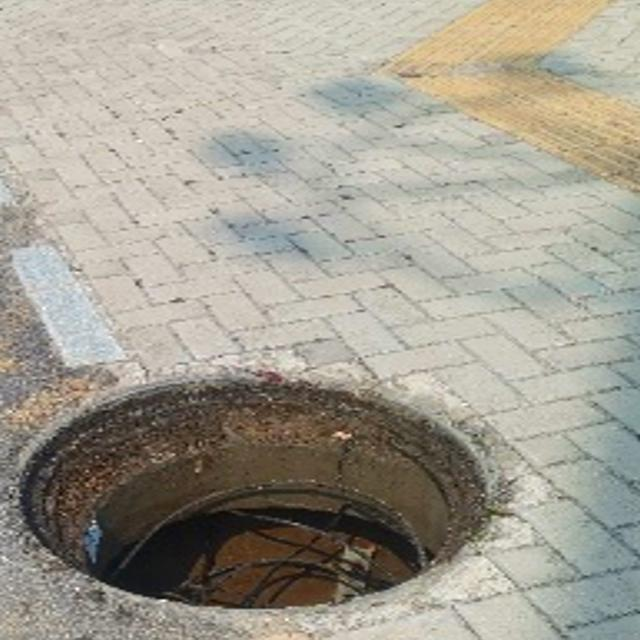lose: (3, 367, 505, 613)
